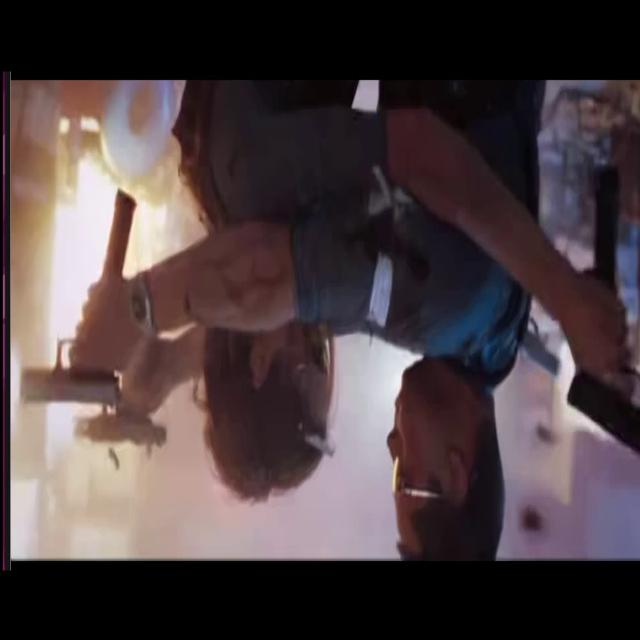weapons: (550, 163, 640, 476), (15, 264, 153, 426)
